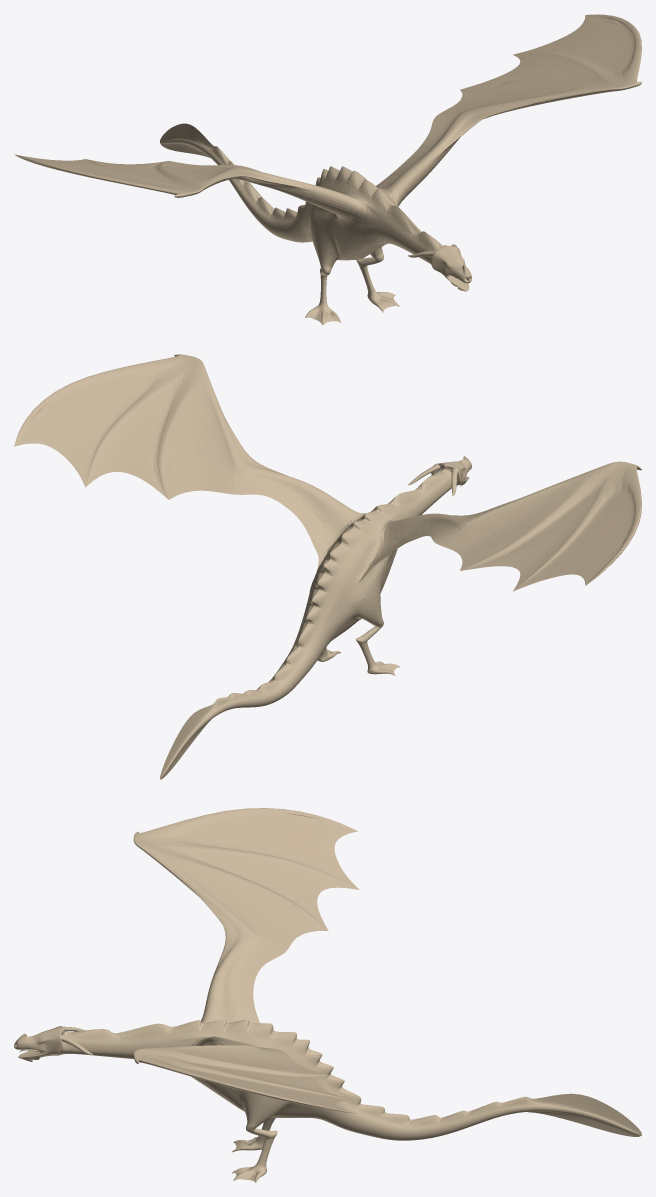
File: azure-dragon.glb
The picture shows the model from 3 angles, top to bottom: view 1: azimuth 30°, elevation 25°; view 2: azimuth 150°, elevation 25°; view 3: azimuth 270°, elevation 25°; orthographic projection.
Visible parts, largest first — view 1: Cylinder; view 2: Cylinder; view 3: Cylinder.
Part boxes in pixels (box(x1,y1,x2,y2)): Cylinder: box(14, 14, 641, 324); Cylinder: box(14, 354, 641, 779); Cylinder: box(14, 808, 641, 1182).
Size of the model in its own units: 17.04 by 5.92 by 15.55.
